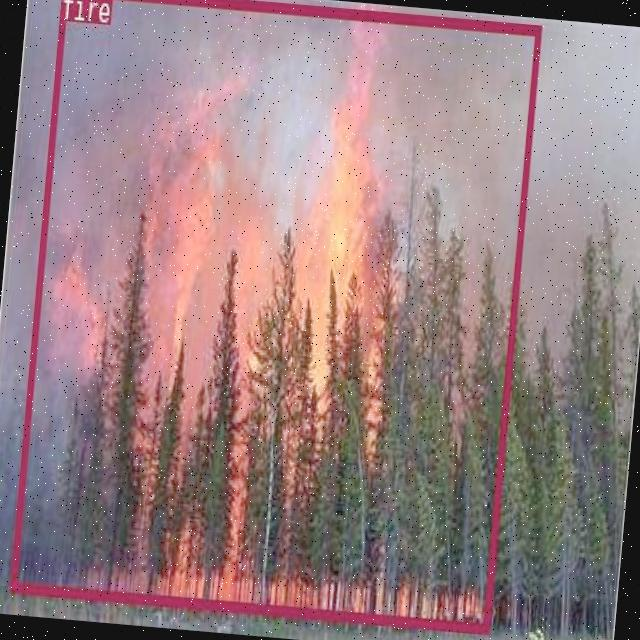fire: (8, 0, 539, 631)
